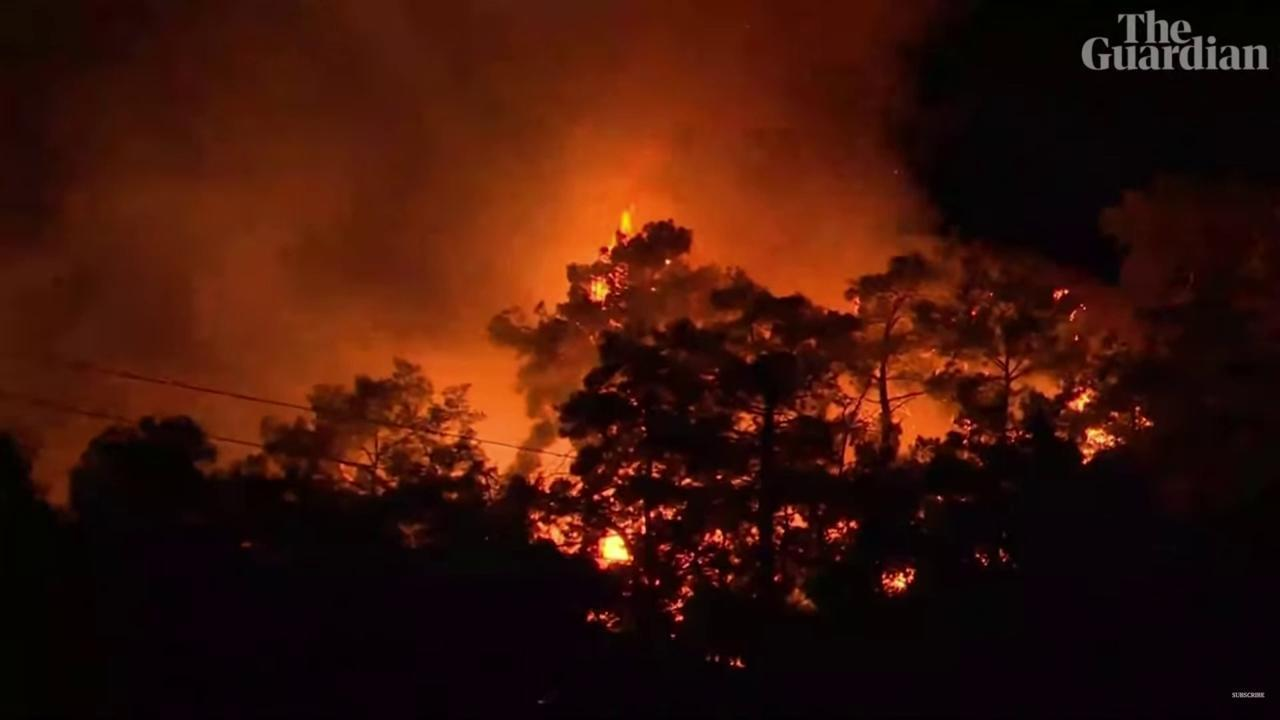fire: (1079, 425, 1126, 466), (600, 533, 631, 564), (588, 274, 610, 310), (1133, 404, 1154, 432), (609, 262, 630, 288), (884, 571, 907, 593), (619, 211, 635, 240), (1074, 392, 1091, 412), (1052, 289, 1069, 302), (1069, 309, 1078, 321), (665, 259, 673, 265), (1080, 303, 1086, 311), (650, 287, 657, 293), (1074, 334, 1079, 341), (971, 311, 976, 317)
smoke: (0, 0, 1006, 485)
